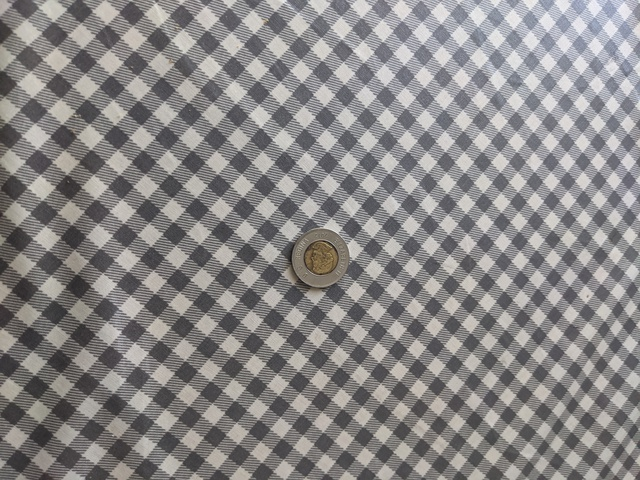twonie: (283, 224, 357, 293)
